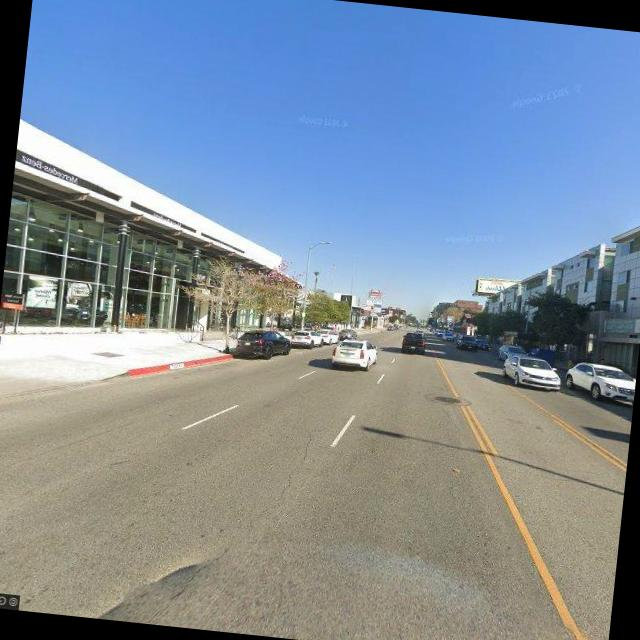pothole: (247, 420, 318, 532)
